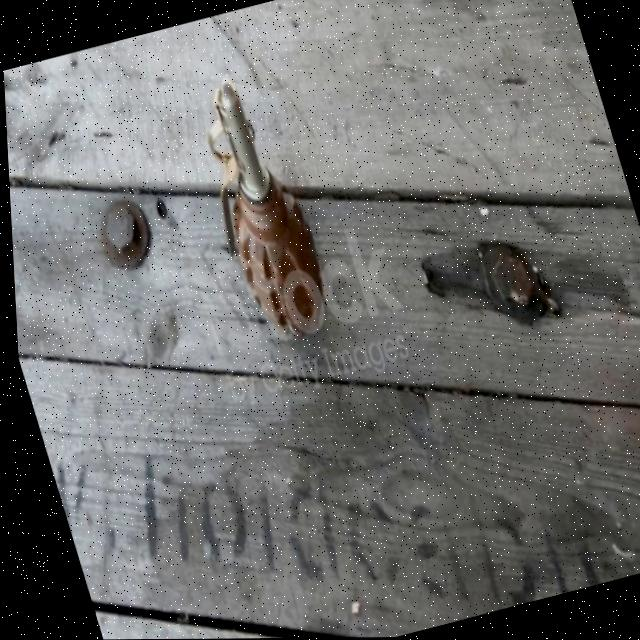grenade: (175, 64, 339, 358)
